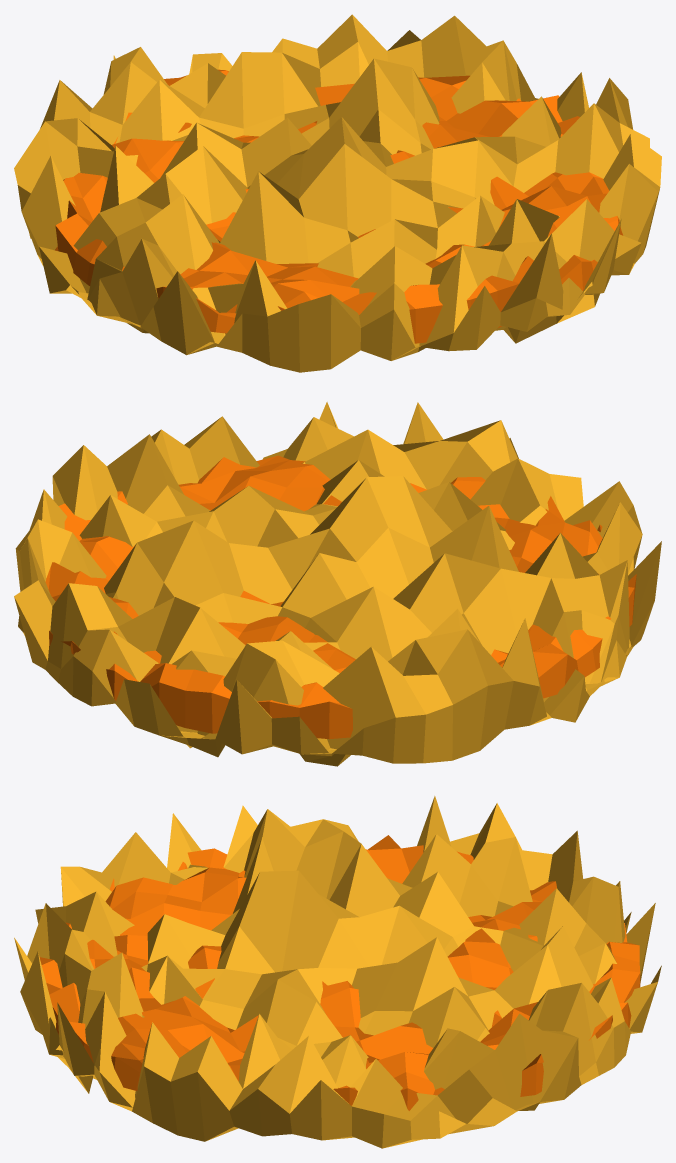
File: FireCircle.fbx
3 renders of one model, top to bottom at view 1: azimuth 30°, elevation 25°; view 2: azimuth 150°, elevation 25°; view 3: azimuth 270°, elevation 25°, orthographic.
Parts seen in each view (by area): view 1: Cylinder.001, Cylinder; view 2: Cylinder.001, Cylinder; view 3: Cylinder.001, Cylinder.
Boxes of the visible parts, bbox=[...] form: Cylinder.001: bbox=[14, 14, 661, 372]; Cylinder: bbox=[55, 69, 623, 343]; Cylinder.001: bbox=[14, 402, 661, 766]; Cylinder: bbox=[45, 455, 636, 739]; Cylinder.001: bbox=[14, 796, 661, 1148]; Cylinder: bbox=[39, 835, 640, 1110].
Size of the model in its own units: 1291 by 333 by 1299.
